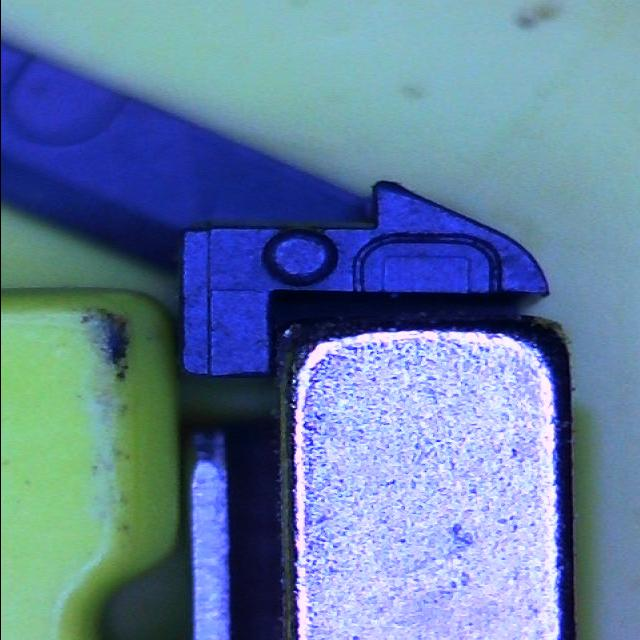noResin: (349, 232, 503, 300)
